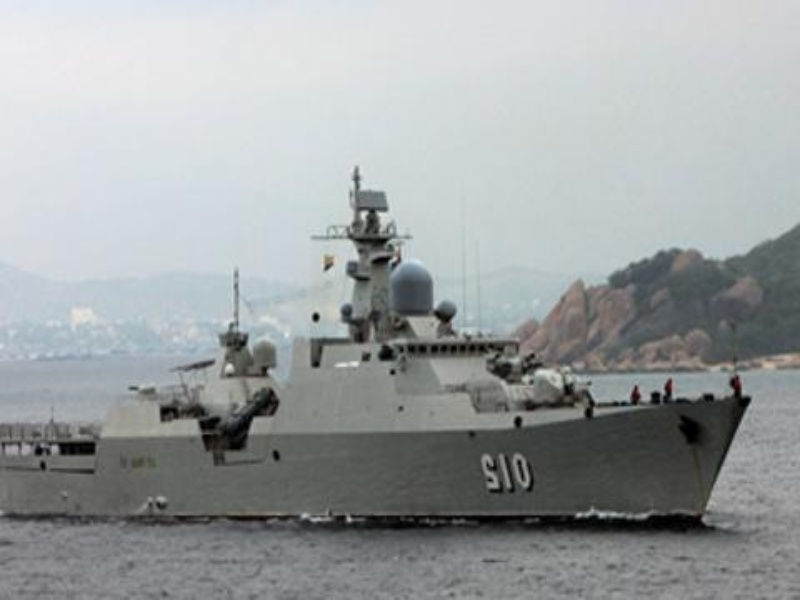cruise: (22, 252, 757, 531)
